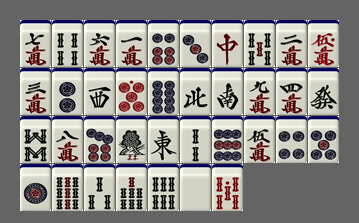0m: (308, 20, 339, 67)
0p: (116, 68, 147, 115)
0s: (212, 164, 243, 211)
1m: (116, 20, 147, 67)
1p: (20, 164, 51, 211)
1s: (116, 116, 147, 163)
1z: (148, 116, 179, 163)
2m: (276, 20, 307, 67)
2p: (52, 68, 83, 115)
2s: (180, 116, 211, 163)
2z: (212, 68, 243, 115)
3m: (20, 68, 51, 115)
3p: (180, 20, 211, 67)
3s: (84, 164, 115, 211)
3z: (84, 68, 115, 115)
4m: (276, 68, 307, 115)
4p: (276, 116, 307, 163)
4s: (52, 20, 83, 67)
4z: (180, 68, 211, 115)
5m: (244, 116, 275, 163)
5p: (308, 116, 339, 163)
5s: (244, 20, 275, 67)
5z: (180, 164, 211, 211)
6m: (84, 20, 115, 67)
6p: (148, 20, 179, 67)
6s: (148, 164, 179, 211)
6z: (308, 68, 339, 115)
7m: (20, 20, 51, 67)
7p: (84, 116, 115, 163)
7s: (116, 164, 147, 211)
7z: (212, 20, 243, 67)
8m: (52, 116, 83, 163)
8p: (148, 68, 179, 115)
8s: (20, 116, 51, 163)
9m: (244, 68, 275, 115)
9p: (212, 116, 243, 163)
9s: (52, 164, 83, 211)
